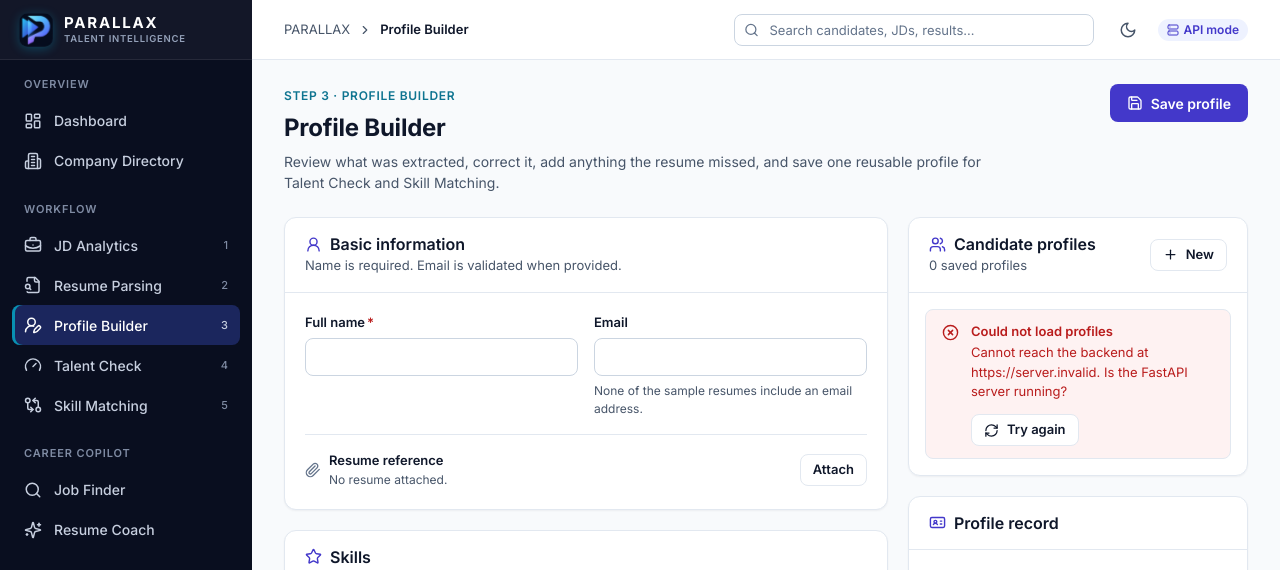
Scenario: Profile Builder Integration › interacts correctly in API mode and surfaces API errors without demo fallback
Type "Karthik Subramaniam" into the field labelled "Full name*" at coordinates (442, 357), box [305, 338, 578, 376]
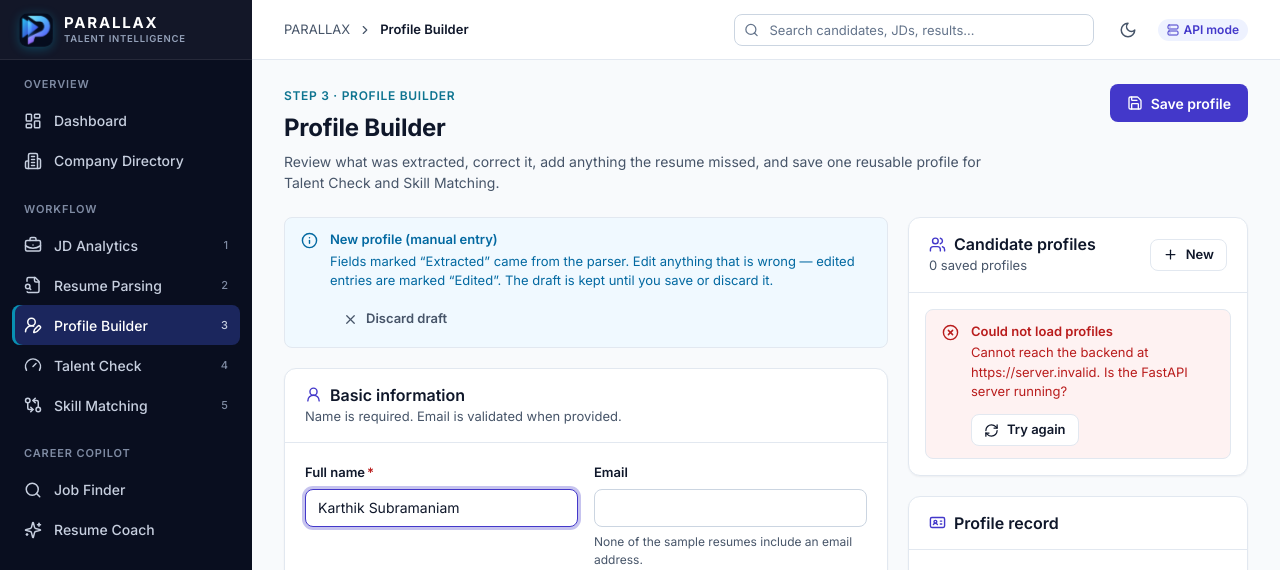
Click the button "Save profile" at coordinates (1179, 103), box [1110, 84, 1248, 122]
(page scrolled)
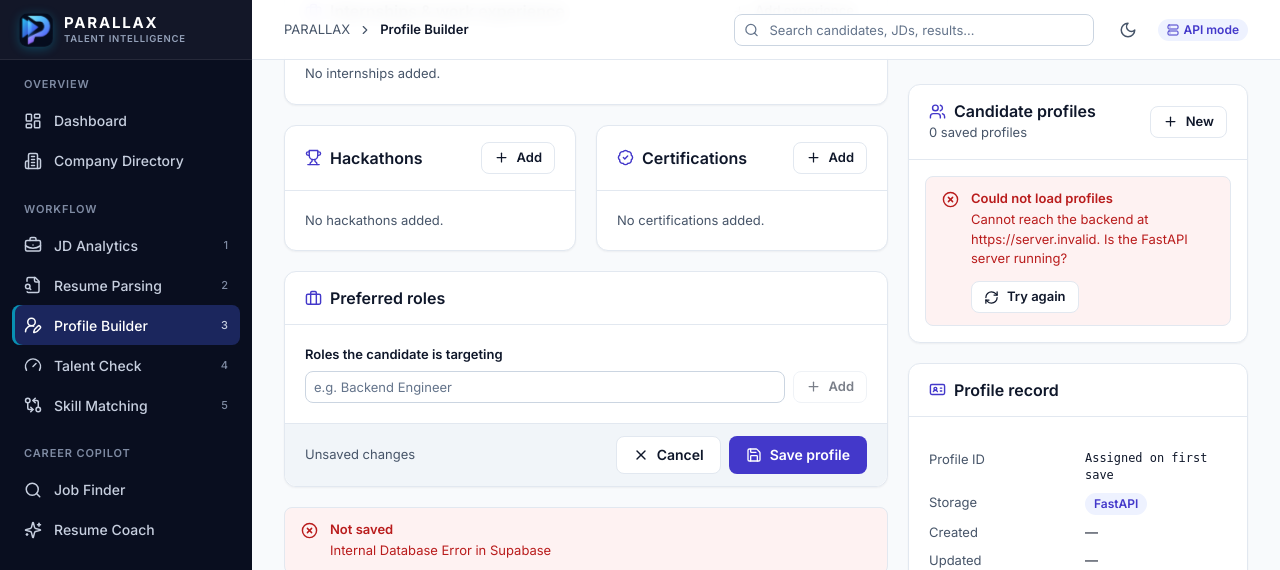
Expected: the text "Internal Database Error in Supabase" is shown, [330, 542, 551, 558]
